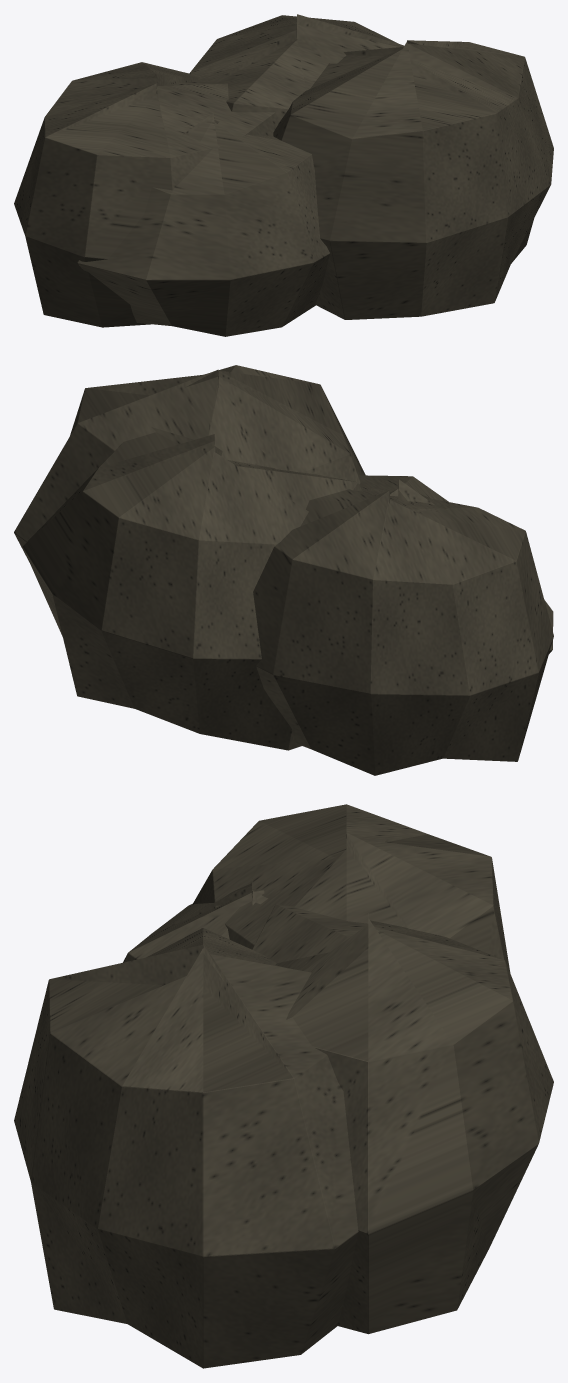
The model's file is PROP-ED02F1904540_lod1.glb.
3 renders of one model, top to bottom at view 1: azimuth 30°, elevation 25°; view 2: azimuth 150°, elevation 25°; view 3: azimuth 270°, elevation 25°, orthographic. The views are drawn at different scales.
Parts seen in each view (by area): view 1: rock.005; view 2: rock.005; view 3: rock.005.
Boxes of the visible parts, left/top/right/bottom form: rock.005: left=14, top=14, right=553, bottom=336; rock.005: left=14, top=365, right=553, bottom=775; rock.005: left=14, top=804, right=553, bottom=1368.
Size of the model in its own units: 2.04 by 0.9521 by 1.37.
Materials: 1 (1 with a texture image).
